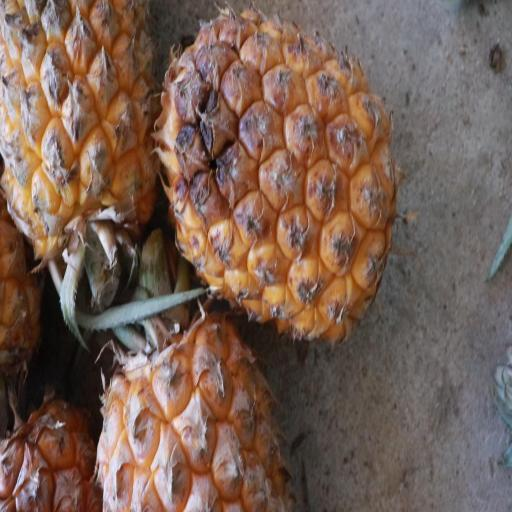Pineapple - v8 v1: (148, 0, 402, 355), (0, 0, 157, 289), (91, 298, 286, 512)
